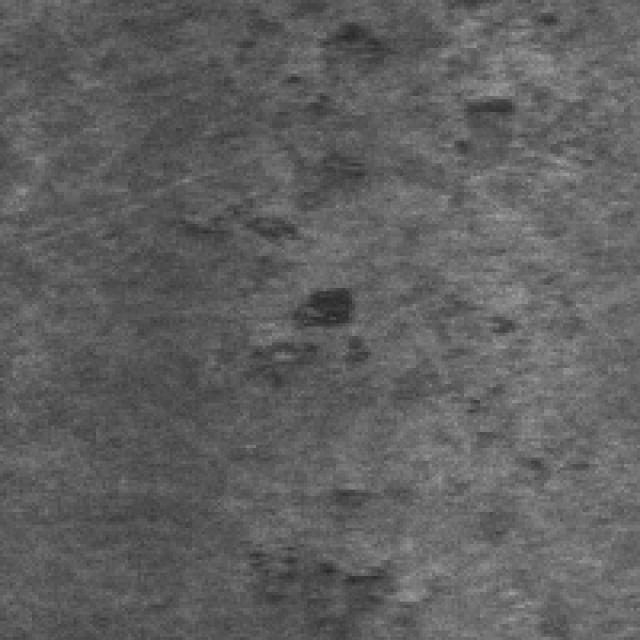rolled-in_scale: (230, 467, 448, 634)
